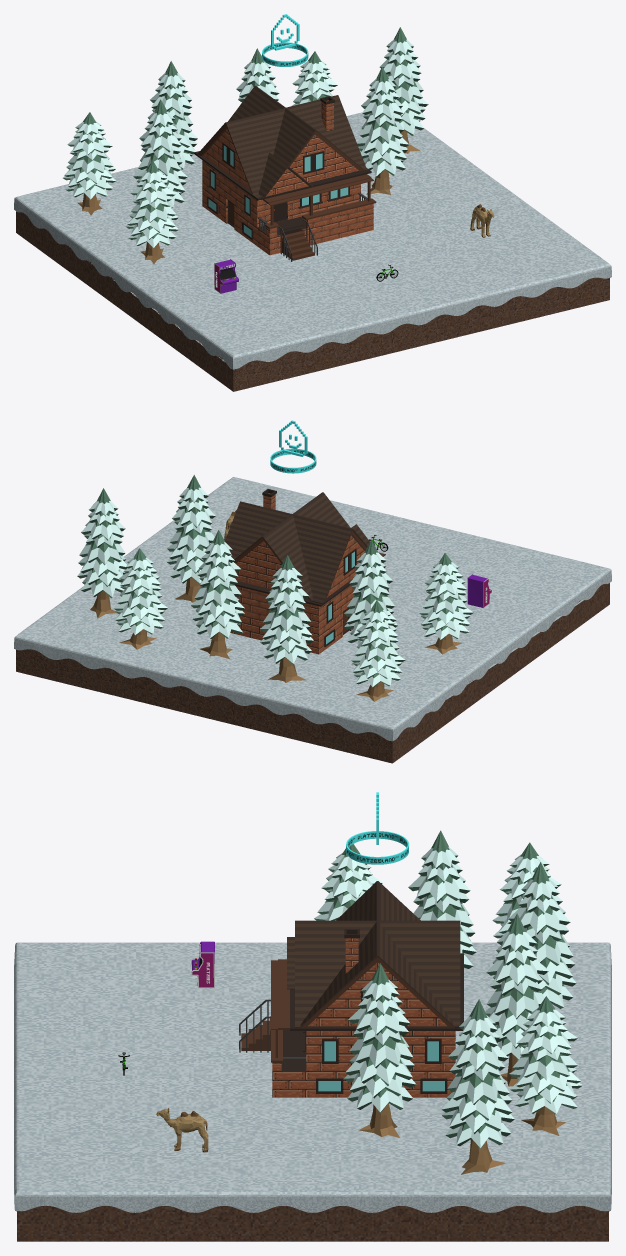
3 renders of one model, top to bottom at view 1: azimuth 30°, elevation 25°; view 2: azimuth 150°, elevation 25°; view 3: azimuth 270°, elevation 25°, orthographic. The views are drawn at different scales.
Visible parts, largest first — view 1: Cube.003, Cube.469, TYPE_PREMIUM, OBJRANDOM_ARCADE; view 2: Cube.003, Cube.469, TYPE_PREMIUM, OBJRANDOM_ARCADE; view 3: Cube.003, Cube.469, TYPE_PREMIUM, ANIMAL_CAMELLO, OBJRANDOM_ARCADE.
Boxes of the visible parts, bbox=[...] form: Cube.003: bbox=[14, 27, 611, 391]; Cube.469: bbox=[194, 85, 376, 261]; TYPE_PREMIUM: bbox=[262, 14, 308, 66]; OBJRANDOM_ARCADE: bbox=[214, 259, 238, 293]; Cube.003: bbox=[14, 475, 611, 763]; Cube.469: bbox=[225, 489, 388, 654]; TYPE_PREMIUM: bbox=[270, 420, 316, 473]; OBJRANDOM_ARCADE: bbox=[467, 574, 491, 607]; Cube.003: bbox=[14, 830, 611, 1241]; Cube.469: bbox=[239, 881, 463, 1097]; TYPE_PREMIUM: bbox=[346, 792, 408, 864]; ANIMAL_CAMELLO: bbox=[156, 1108, 208, 1152]; OBJRANDOM_ARCADE: bbox=[191, 941, 214, 988].
Size of the model in its own units: 4040 by 2490 by 4040.
37 materials, 6 textured.
